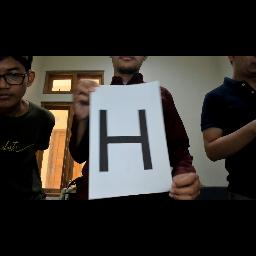h: (94, 104, 162, 180)
